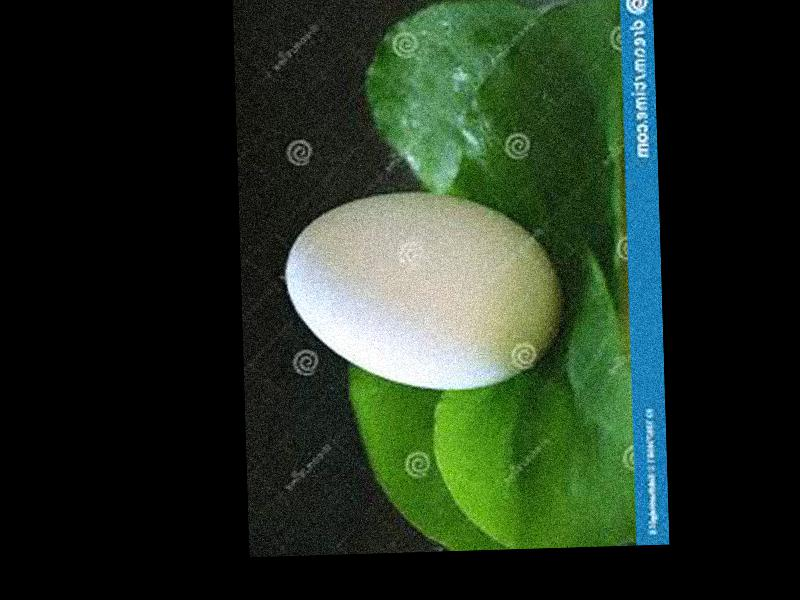Eggs: (282, 187, 563, 395)
